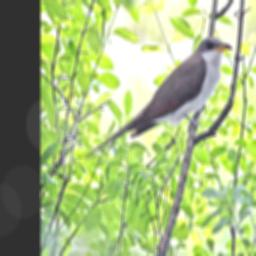Cuckoo: (86, 36, 234, 163)
